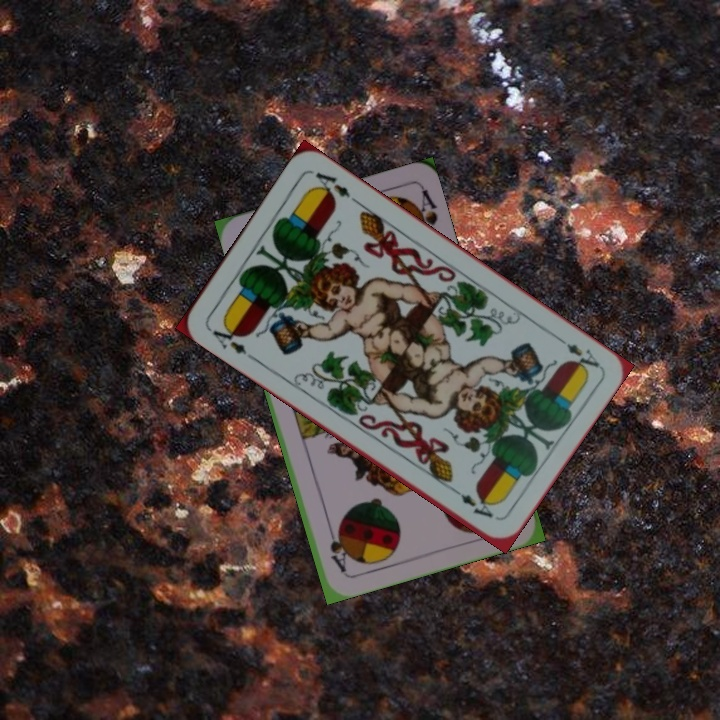EA: (550, 331, 602, 374), (209, 318, 250, 358)
